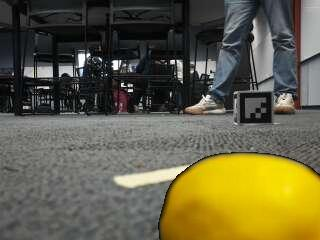lemon: (159, 152, 318, 239)
